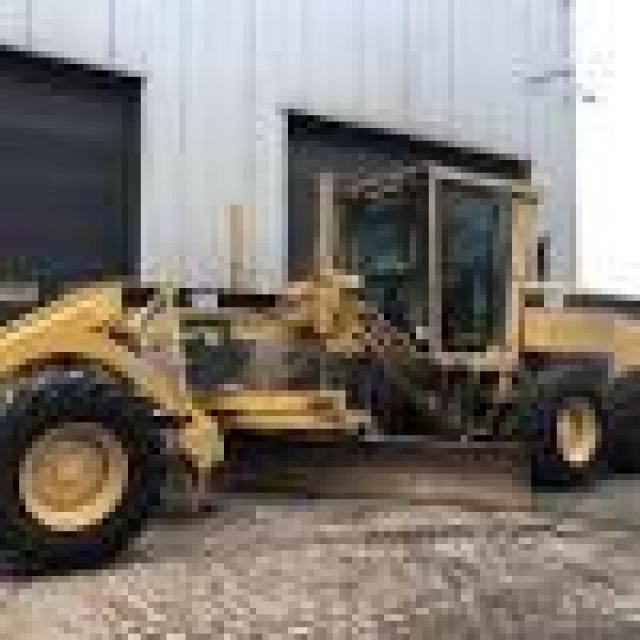Grader: (0, 96, 634, 570)
